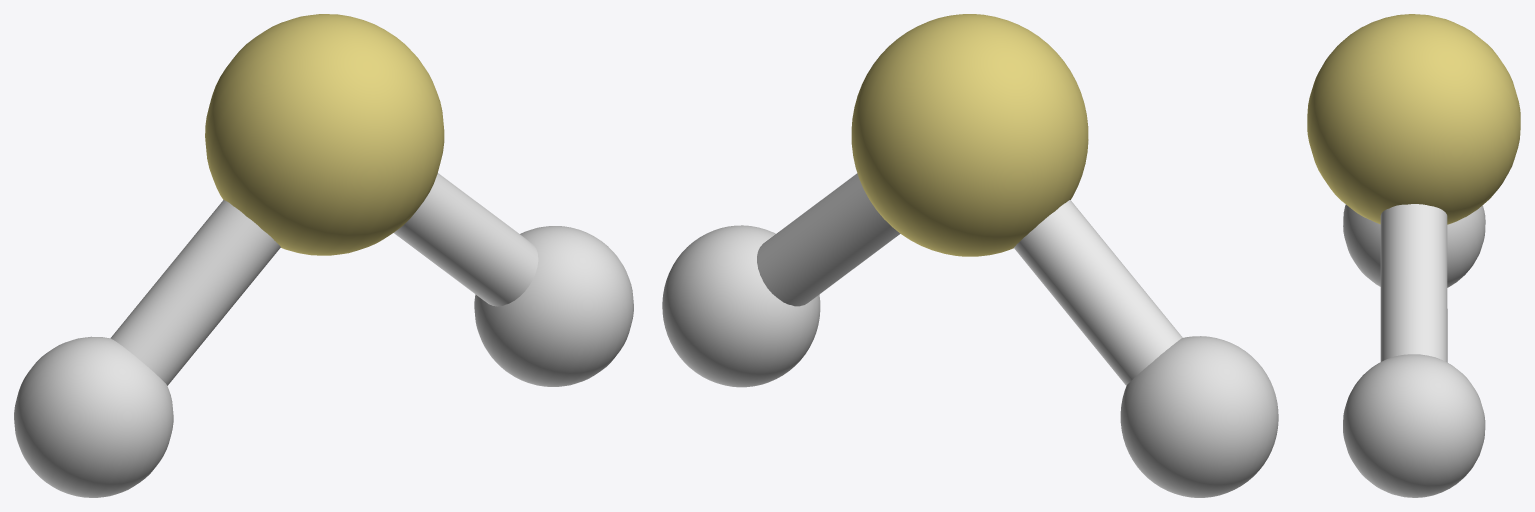
The picture shows the model from 3 angles, left to right: view 1: azimuth 30°, elevation 25°; view 2: azimuth 150°, elevation 25°; view 3: azimuth 270°, elevation 25°; orthographic projection. The views are drawn at different scales.
Visible parts, largest first — view 1: H2S; view 2: H2S; view 3: H2S.
Part boxes in pixels (left/top/right/bottom): H2S: left=14, top=14, right=633, bottom=497; H2S: left=662, top=14, right=1278, bottom=497; H2S: left=1307, top=14, right=1520, bottom=497.
Size of the model in its own units: 2.54 by 1.67 by 0.8773.
